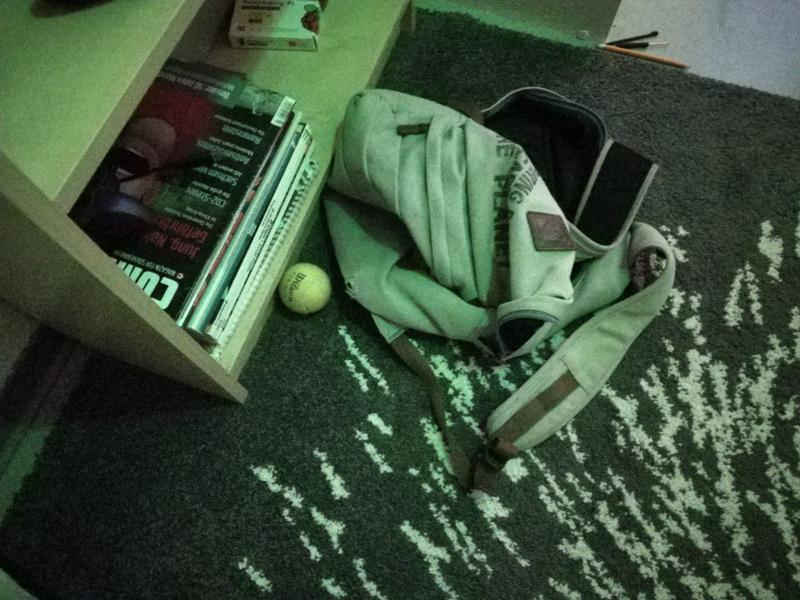Tennisball: (276, 257, 333, 317)
